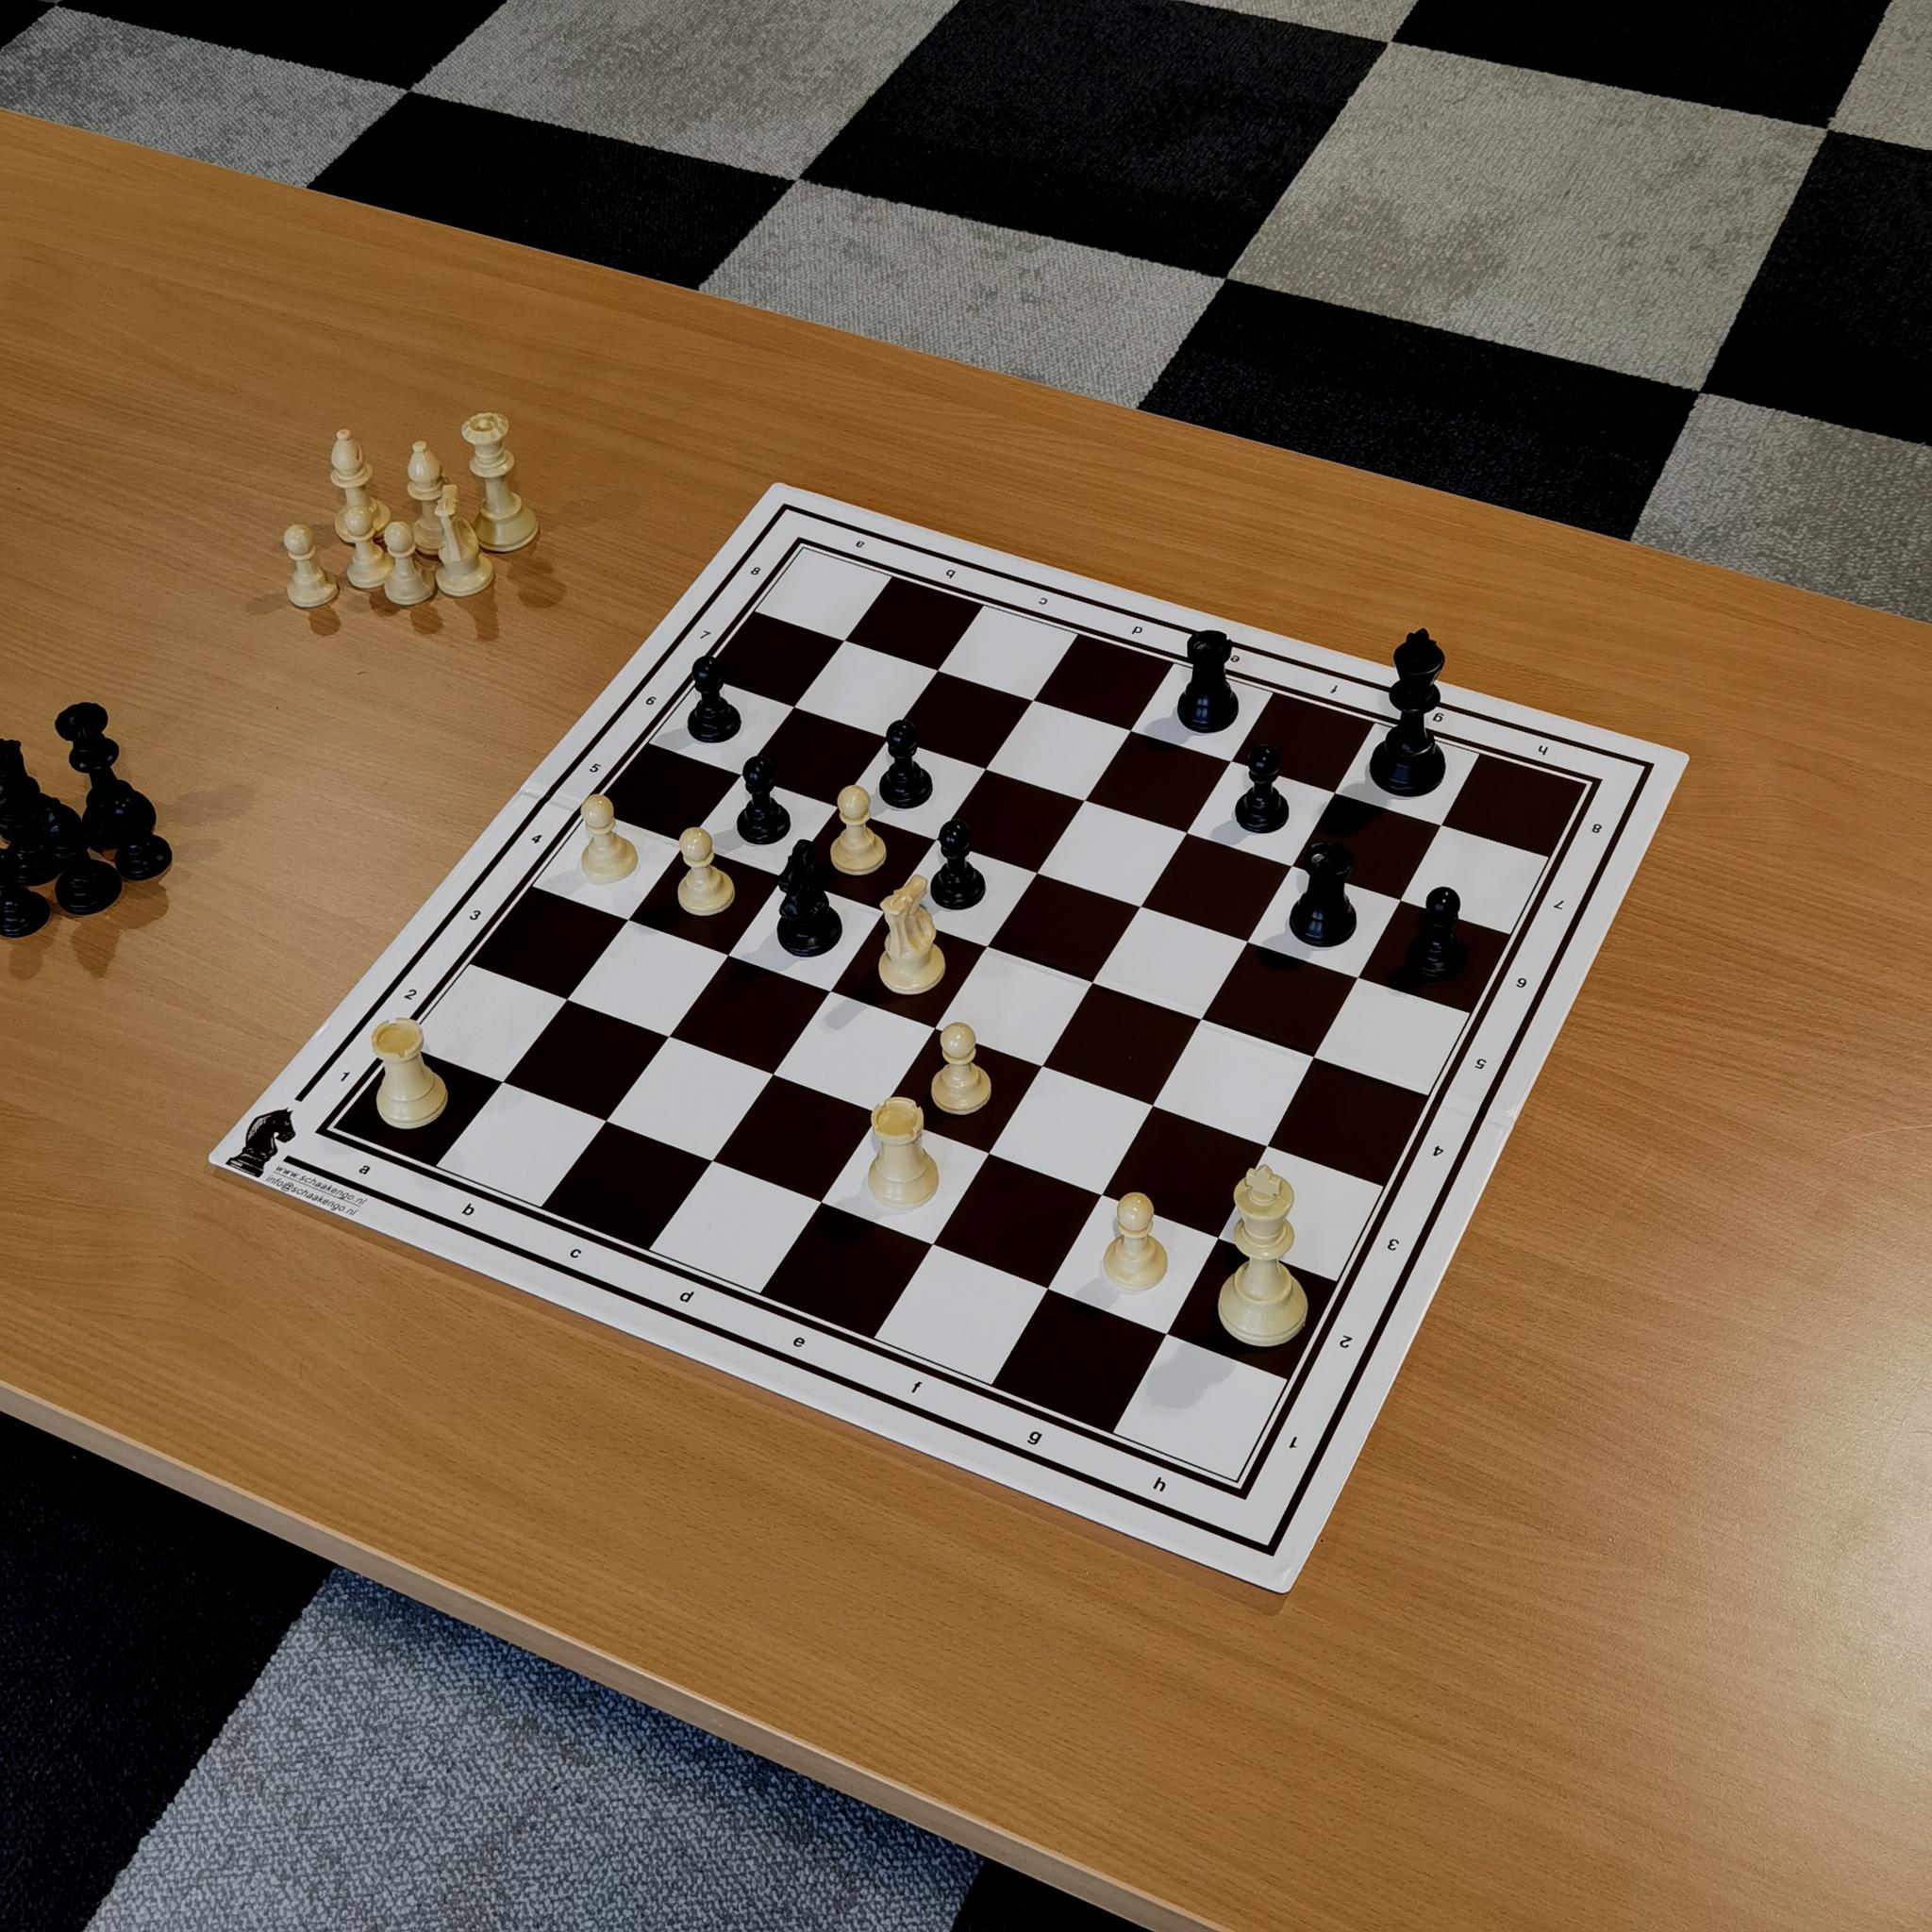corners: (1221, 1471, 1269, 1517), (301, 1110, 349, 1153), (1569, 766, 1617, 803), (782, 532, 826, 569)
eight: (1580, 804, 1619, 841), (739, 554, 774, 589)
one: (1274, 1418, 1314, 1462), (325, 1062, 366, 1098)
